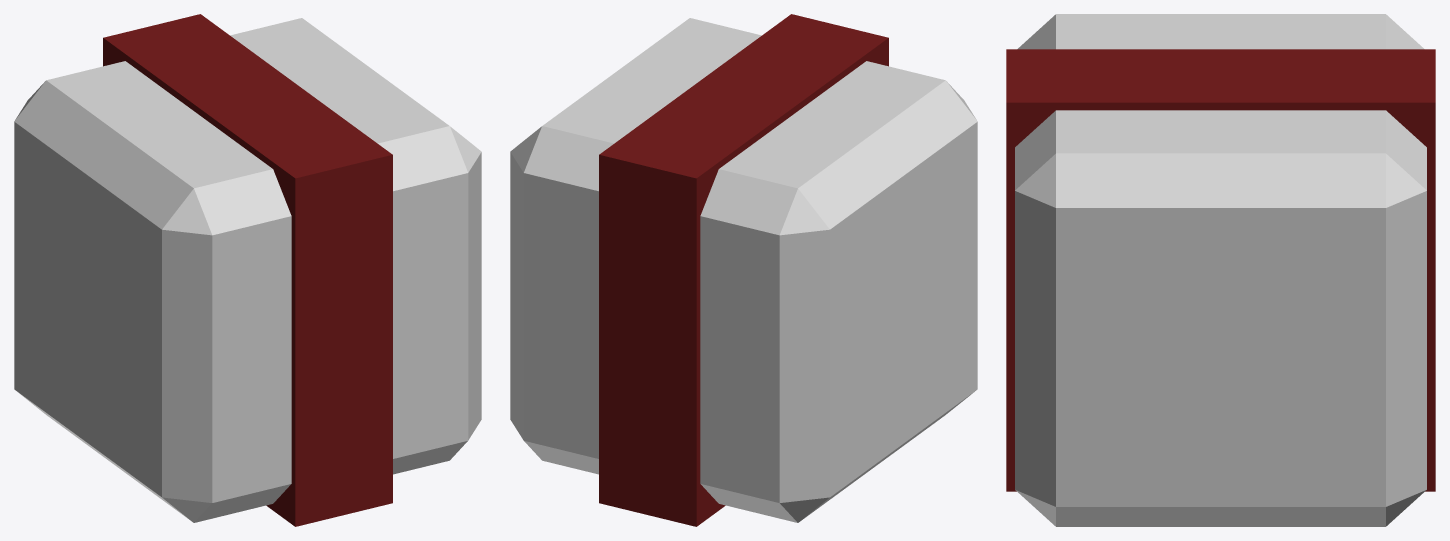
File: filter.glb
3 views of the same model, side by side, from view 1: azimuth 30°, elevation 25°; view 2: azimuth 150°, elevation 25°; view 3: azimuth 270°, elevation 25° (orthographic). The views are drawn at different scales.
Parts seen in each view (by area): view 1: Cube.001; view 2: Cube.001; view 3: Cube.001.
Part boxes in pixels (x1,y1,x2,y2): Cube.001: (14, 14, 481, 526); Cube.001: (510, 14, 977, 526); Cube.001: (1006, 14, 1435, 526).
Bounding box in the file's own units: 1 × 1.04 × 1.04.
